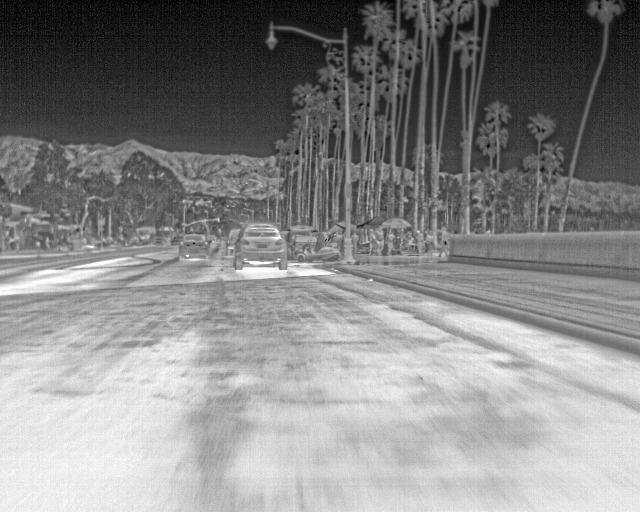bicycle: (234, 221, 289, 269), (177, 233, 211, 261), (225, 228, 243, 256), (133, 226, 157, 247)
